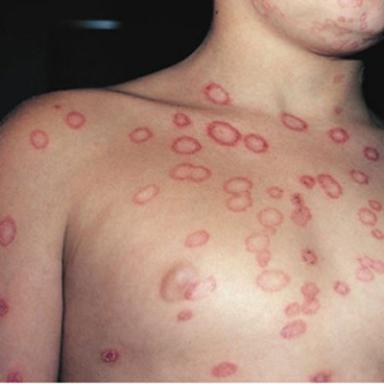Tinea-Corporis: (245, 208, 283, 267), (160, 266, 215, 302), (284, 282, 319, 316), (223, 177, 253, 211), (207, 121, 241, 146), (169, 162, 211, 182), (256, 269, 291, 292), (355, 256, 384, 281), (291, 193, 311, 226), (318, 174, 342, 199), (205, 83, 230, 105), (171, 137, 201, 155), (133, 185, 159, 204), (0, 216, 16, 246), (281, 319, 306, 338), (281, 113, 307, 131), (245, 134, 268, 152), (185, 230, 209, 247), (129, 127, 153, 143), (213, 361, 236, 377), (358, 207, 377, 226), (66, 112, 85, 129), (31, 130, 48, 149), (329, 127, 349, 143), (349, 169, 368, 185), (301, 248, 317, 265), (173, 113, 191, 127), (334, 281, 350, 295), (299, 175, 316, 188), (364, 147, 379, 161), (267, 187, 283, 199), (368, 199, 382, 211)
